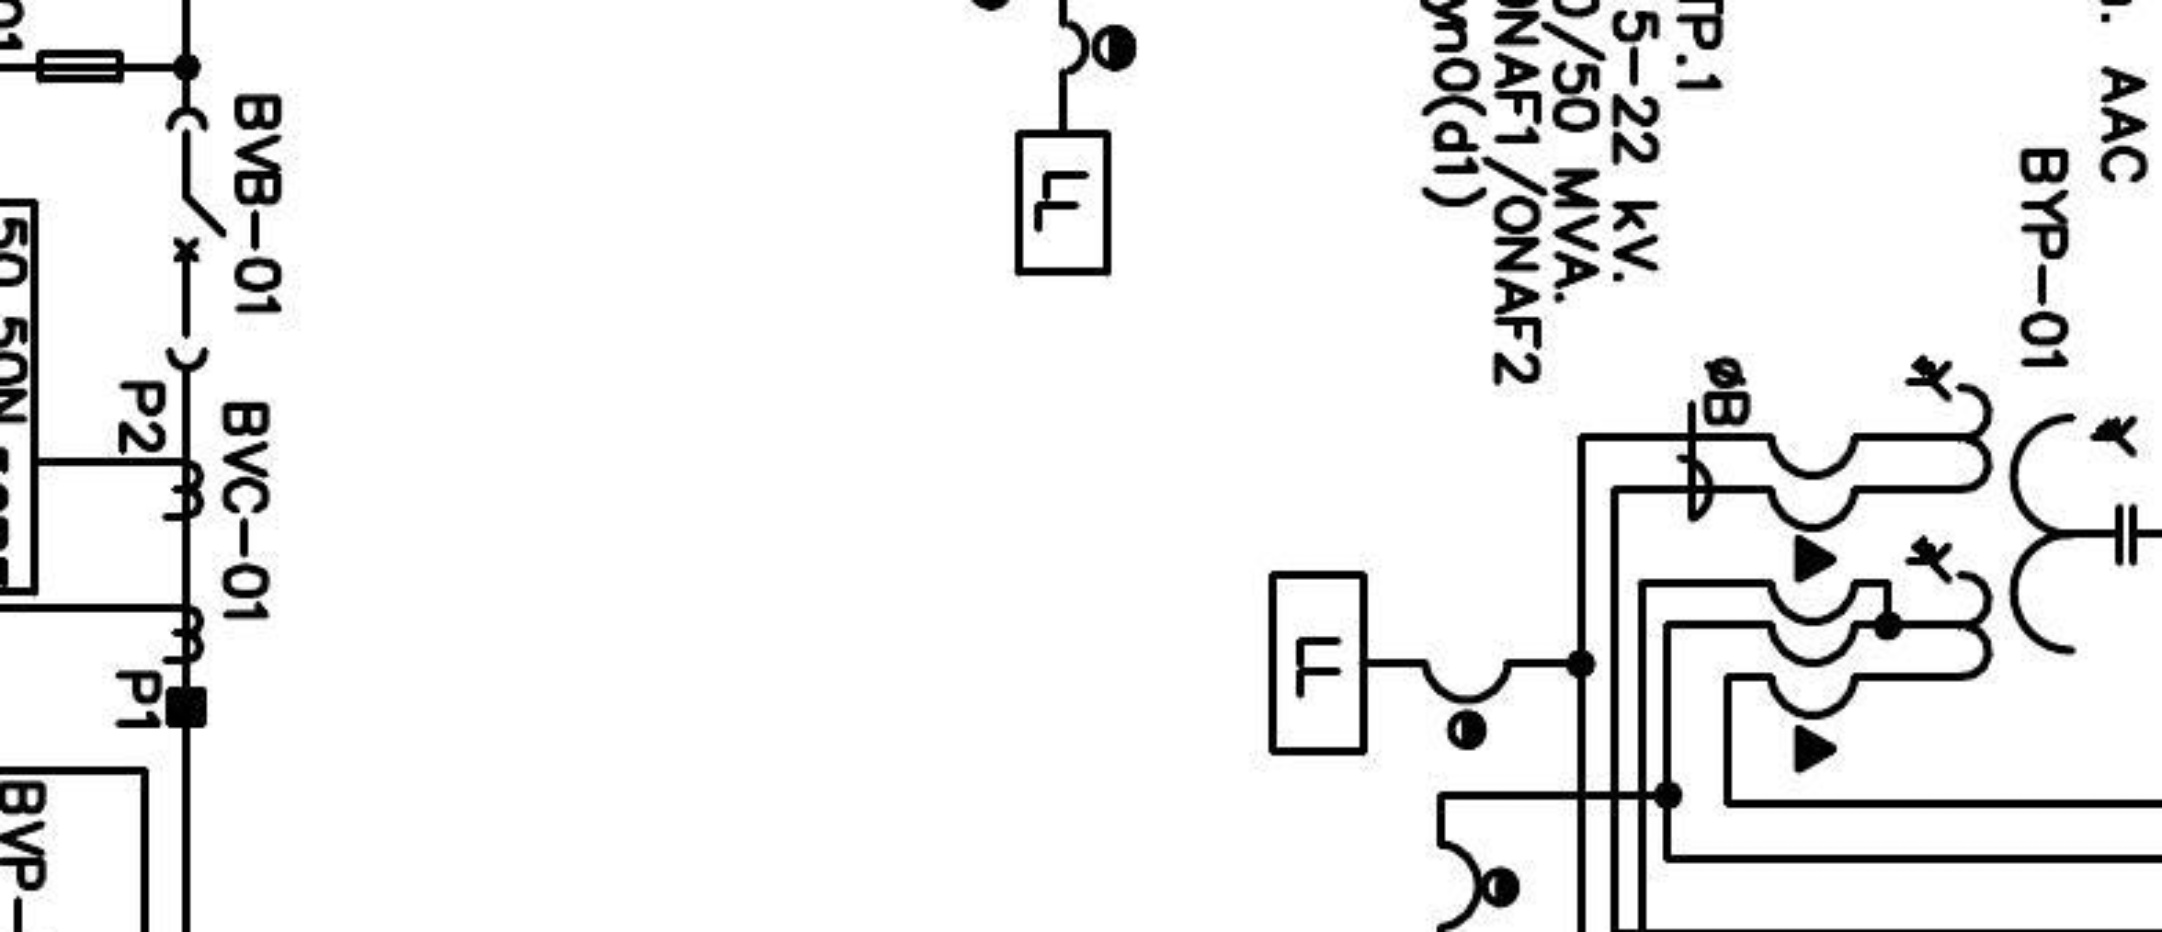115_cvt_3p: (1903, 352, 2139, 682)
22_breaker: (163, 106, 228, 374)
LL: (1267, 571, 1369, 756), (1013, 128, 1111, 277)
